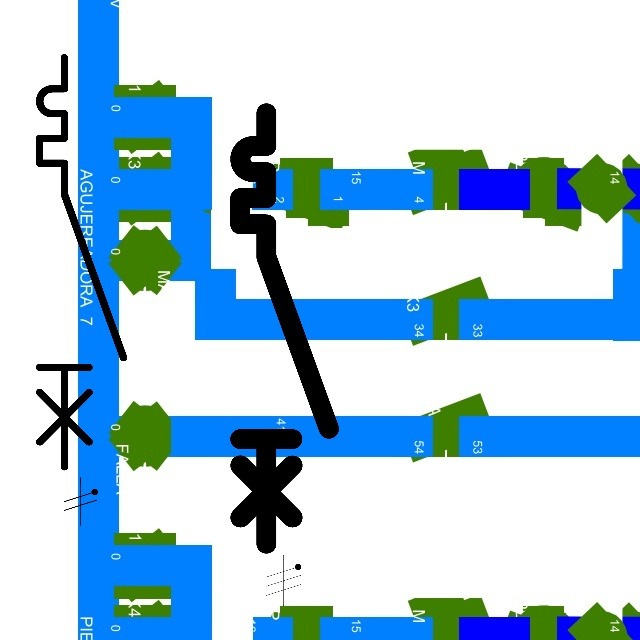interruptor_termomagnetico: (229, 102, 340, 555), (29, 47, 134, 477)
